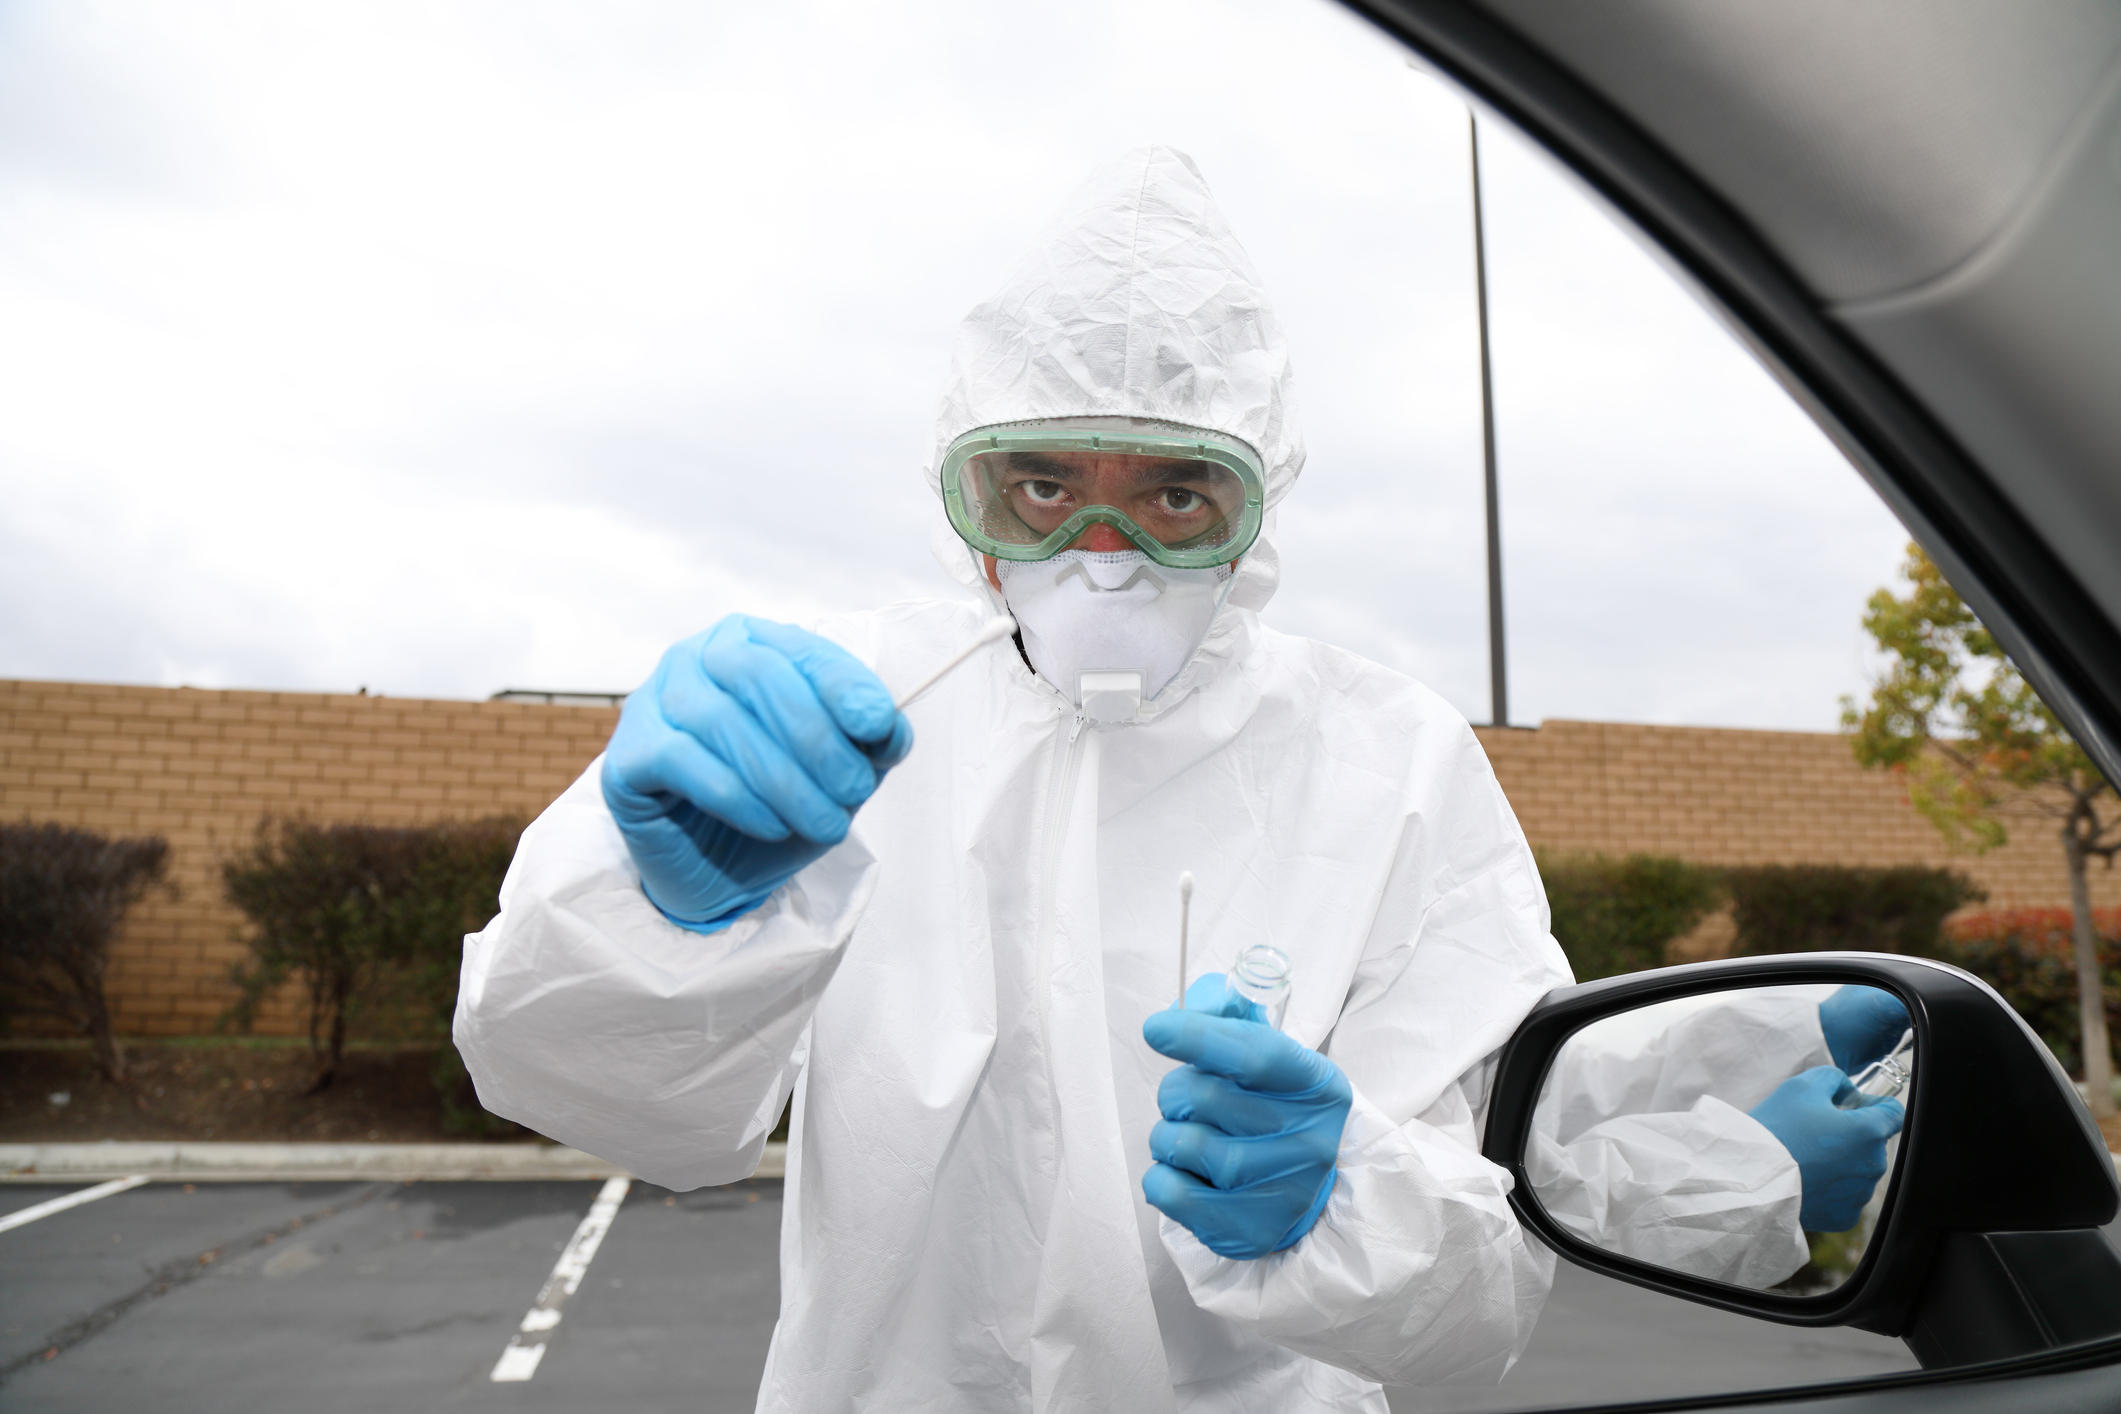glove: (597, 612, 914, 920), (1136, 967, 1352, 1258)
